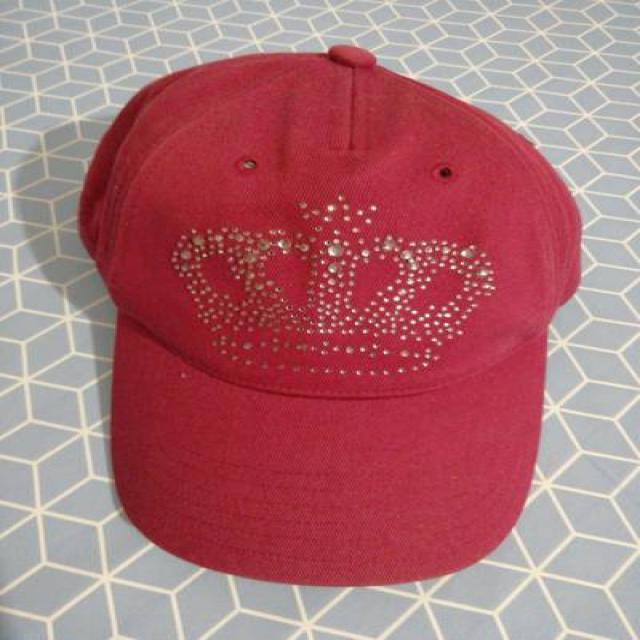Clothes -Biodegradable-: (78, 45, 580, 581)
